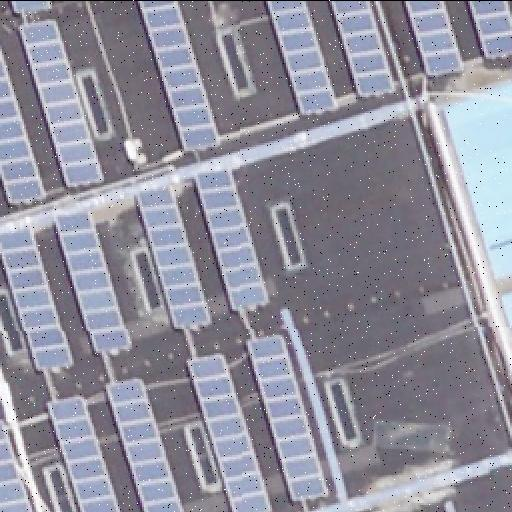solar-panel: (20, 16, 104, 188), (186, 345, 270, 511), (247, 328, 321, 500), (131, 181, 213, 331), (140, 0, 220, 148), (54, 204, 130, 352), (195, 162, 269, 310), (0, 223, 72, 369), (108, 376, 184, 512), (47, 388, 121, 512), (264, 0, 340, 112), (1, 49, 47, 207), (327, 0, 393, 100), (402, 0, 462, 76), (0, 416, 32, 512), (465, 0, 511, 60), (12, 1, 52, 15)
